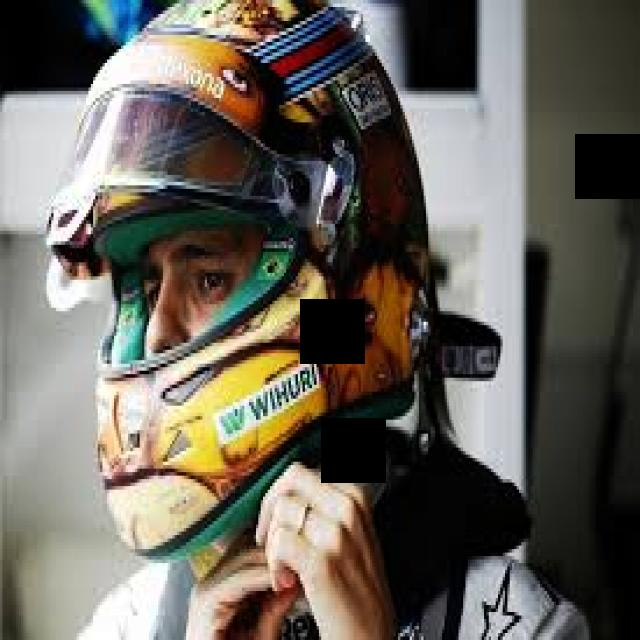Helmet: (50, 0, 500, 555)
